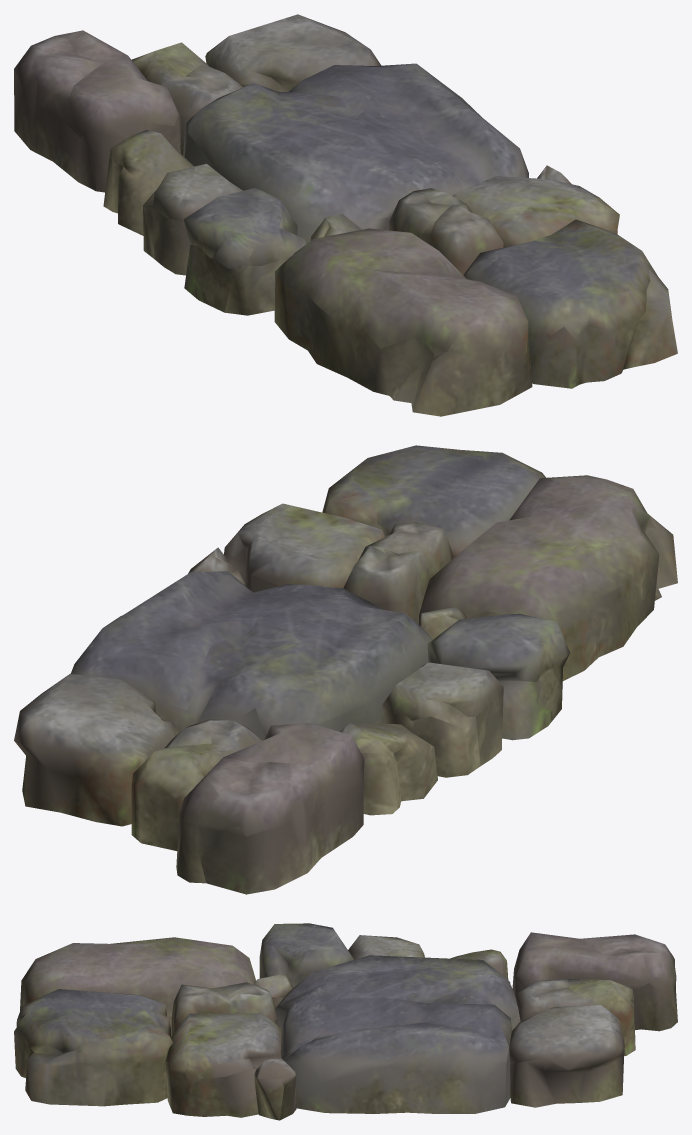
The model's file is SM_Cobble_Patch_A.fbx.
The picture shows the model from 3 angles, top to bottom: view 1: azimuth 30°, elevation 25°; view 2: azimuth 150°, elevation 25°; view 3: azimuth 270°, elevation 25°; orthographic projection. The views are drawn at different scales.
Parts seen in each view (by area): view 1: SM_Cobble_Patch_A_LOD0; view 2: SM_Cobble_Patch_A_LOD0; view 3: SM_Cobble_Patch_A_LOD0.
Part boxes in pixels (x1,y1,x2,y2): SM_Cobble_Patch_A_LOD0: (14, 14, 677, 416); SM_Cobble_Patch_A_LOD0: (14, 445, 677, 894); SM_Cobble_Patch_A_LOD0: (14, 923, 677, 1120).
Size of the model in its own units: 94.71 by 190 by 23.19.
